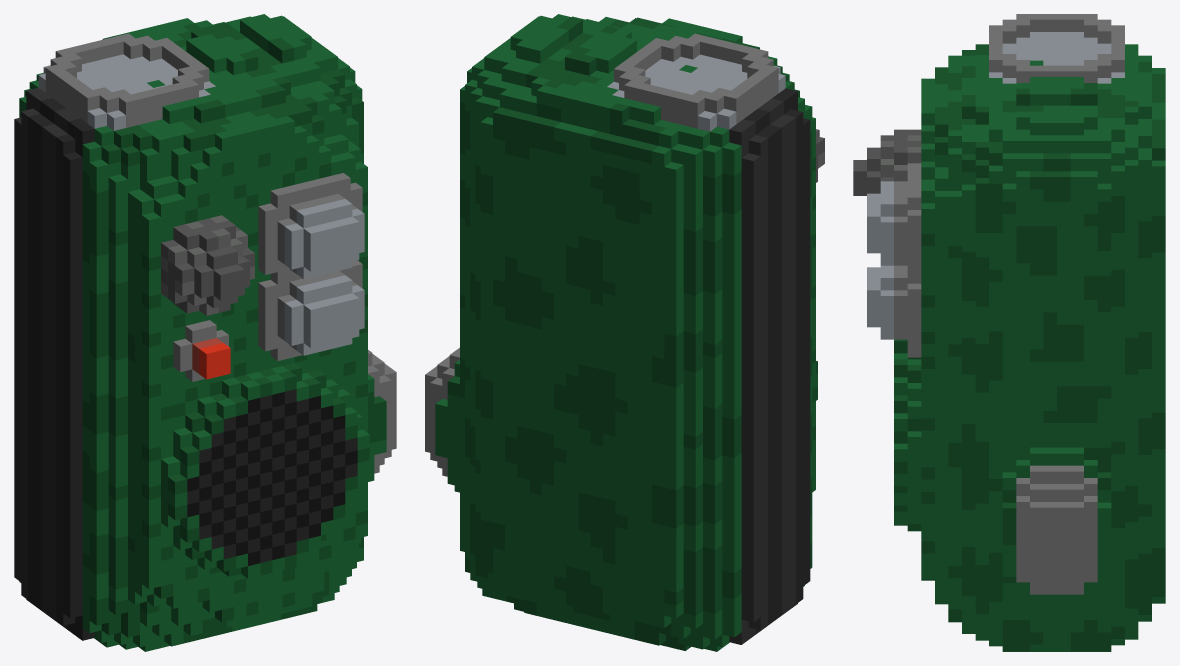
Rendered from krotkofalowka_v2-1.obj.
3 renders of one model, left to right at view 1: azimuth 30°, elevation 25°; view 2: azimuth 150°, elevation 25°; view 3: azimuth 270°, elevation 25°, orthographic. The views are drawn at different scales.
Parts seen in each view (by area): view 1: Untitled; view 2: Untitled; view 3: Untitled.
Part boxes in pixels (x1=…): Untitled: x1=14, y1=14, x2=396, y2=651; Untitled: x1=425, y1=14, x2=824, y2=651; Untitled: x1=853, y1=14, x2=1165, y2=651.
Size of the model in its own units: 2.8 by 4.3 by 2.3.
Materials: 1 (1 with a texture image).
